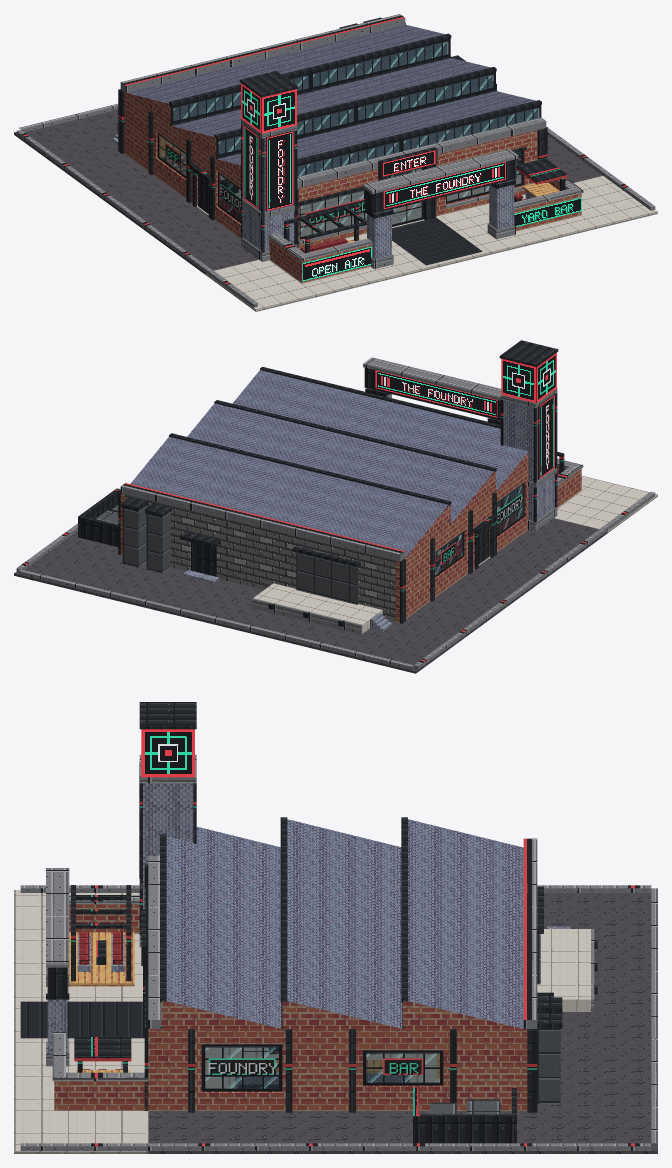
File: foundry-nightclub.glb
3 views of the same model, one above another, from view 1: azimuth 30°, elevation 25°; view 2: azimuth 150°, elevation 25°; view 3: azimuth 270°, elevation 25° (orthographic). The views are drawn at different scales.
Parts seen in each view (by area): view 1: structure, lot, courtyard_lounge, street_gantry; view 2: structure, lot, service_yard, street_gantry, courtyard_lounge; view 3: structure, lot, courtyard_lounge, service_yard, street_gantry.
Boxes of the visible parts, x1,y1,x2,y2 form: structure: [118, 14, 547, 261]; lot: [14, 90, 657, 311]; courtyard_lounge: [268, 158, 583, 283]; street_gantry: [363, 148, 518, 268]; structure: [118, 340, 558, 623]; lot: [14, 476, 657, 673]; service_yard: [78, 488, 391, 634]; street_gantry: [363, 357, 501, 424]; courtyard_lounge: [557, 452, 583, 507]; structure: [139, 702, 537, 1112]; lot: [14, 885, 657, 1153]; courtyard_lounge: [52, 885, 148, 1110]; service_yard: [413, 886, 597, 1143]; street_gantry: [46, 868, 69, 1066].
Size of what is drawn, in the model's own units: 28.56 by 11.48 by 29.8.
13 materials, 13 textured.
